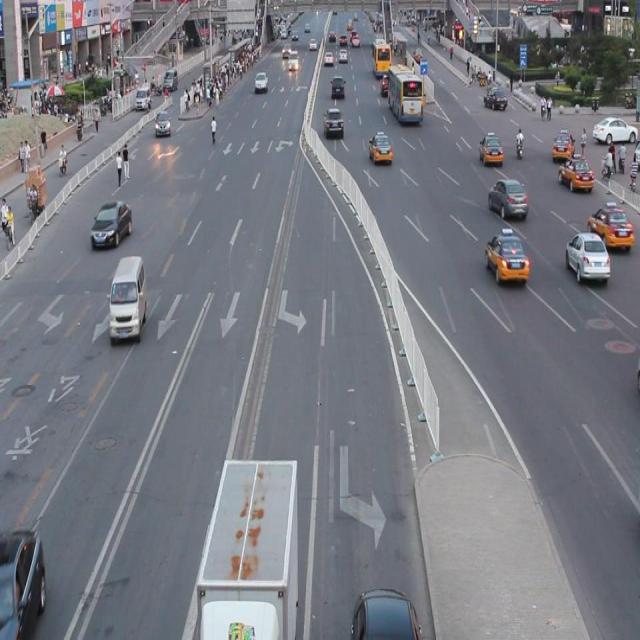bus: (194, 456, 298, 640)
car: (1, 526, 47, 640), (350, 586, 420, 640), (564, 230, 609, 281), (484, 230, 528, 280), (587, 202, 632, 250), (90, 200, 133, 248), (486, 177, 527, 219), (556, 155, 593, 190)
truck: (108, 255, 147, 338)
